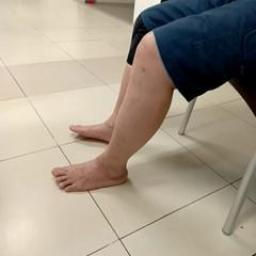Lateral View -Left Foot-: (43, 139, 143, 198)
